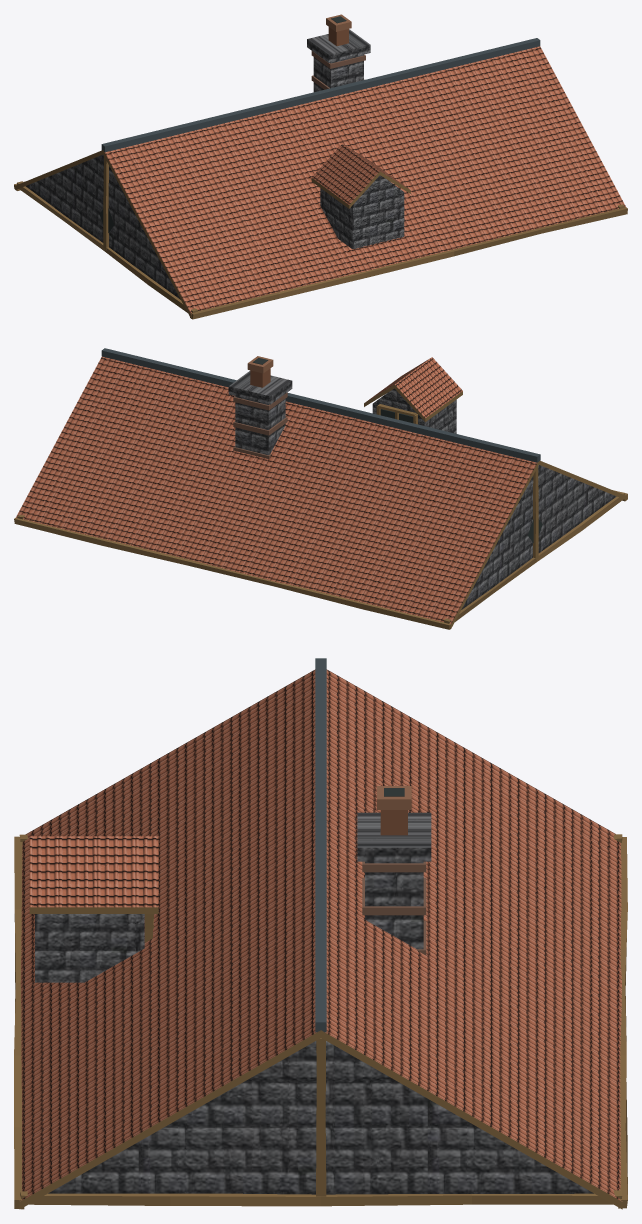
File: town_Roof_lodging.glb
3 views of the same model, one above another, from view 1: azimuth 30°, elevation 25°; view 2: azimuth 150°, elevation 25°; view 3: azimuth 270°, elevation 25° (orthographic). The views are drawn at different scales.
Parts seen in each view (by area): view 1: town_Roof_lodging.005; view 2: town_Roof_lodging.005; view 3: town_Roof_lodging.005.
Part boxes in pixels (x1,y1,x2,y2): town_Roof_lodging.005: (14,14,627,319); town_Roof_lodging.005: (14,348,627,629); town_Roof_lodging.005: (14,658,627,1209).
Size of the model in its own units: 10 by 3.44 by 7.13.
Materials: 3 (2 with a texture image).
